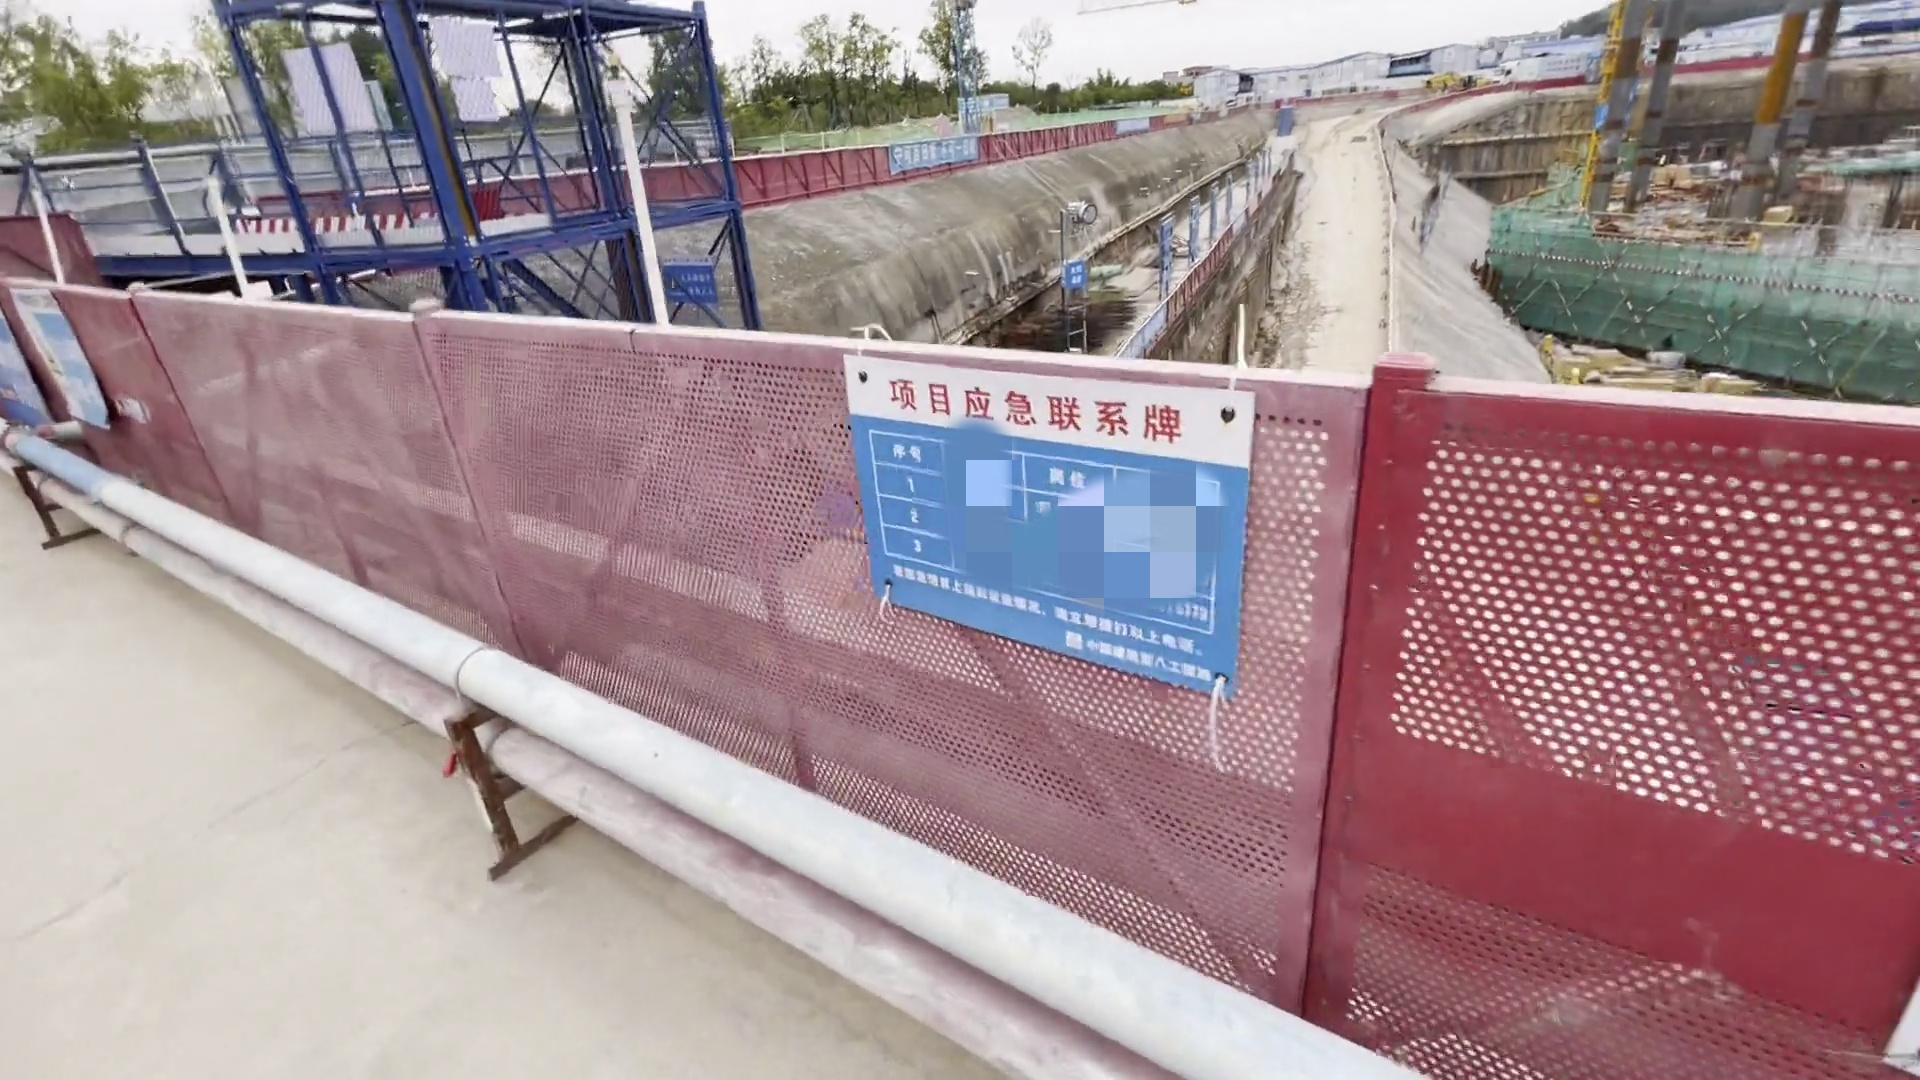fence: (1, 261, 1894, 1063), (662, 88, 1226, 214)
slogan: (847, 338, 1253, 680), (1, 269, 120, 433), (880, 135, 988, 181)
